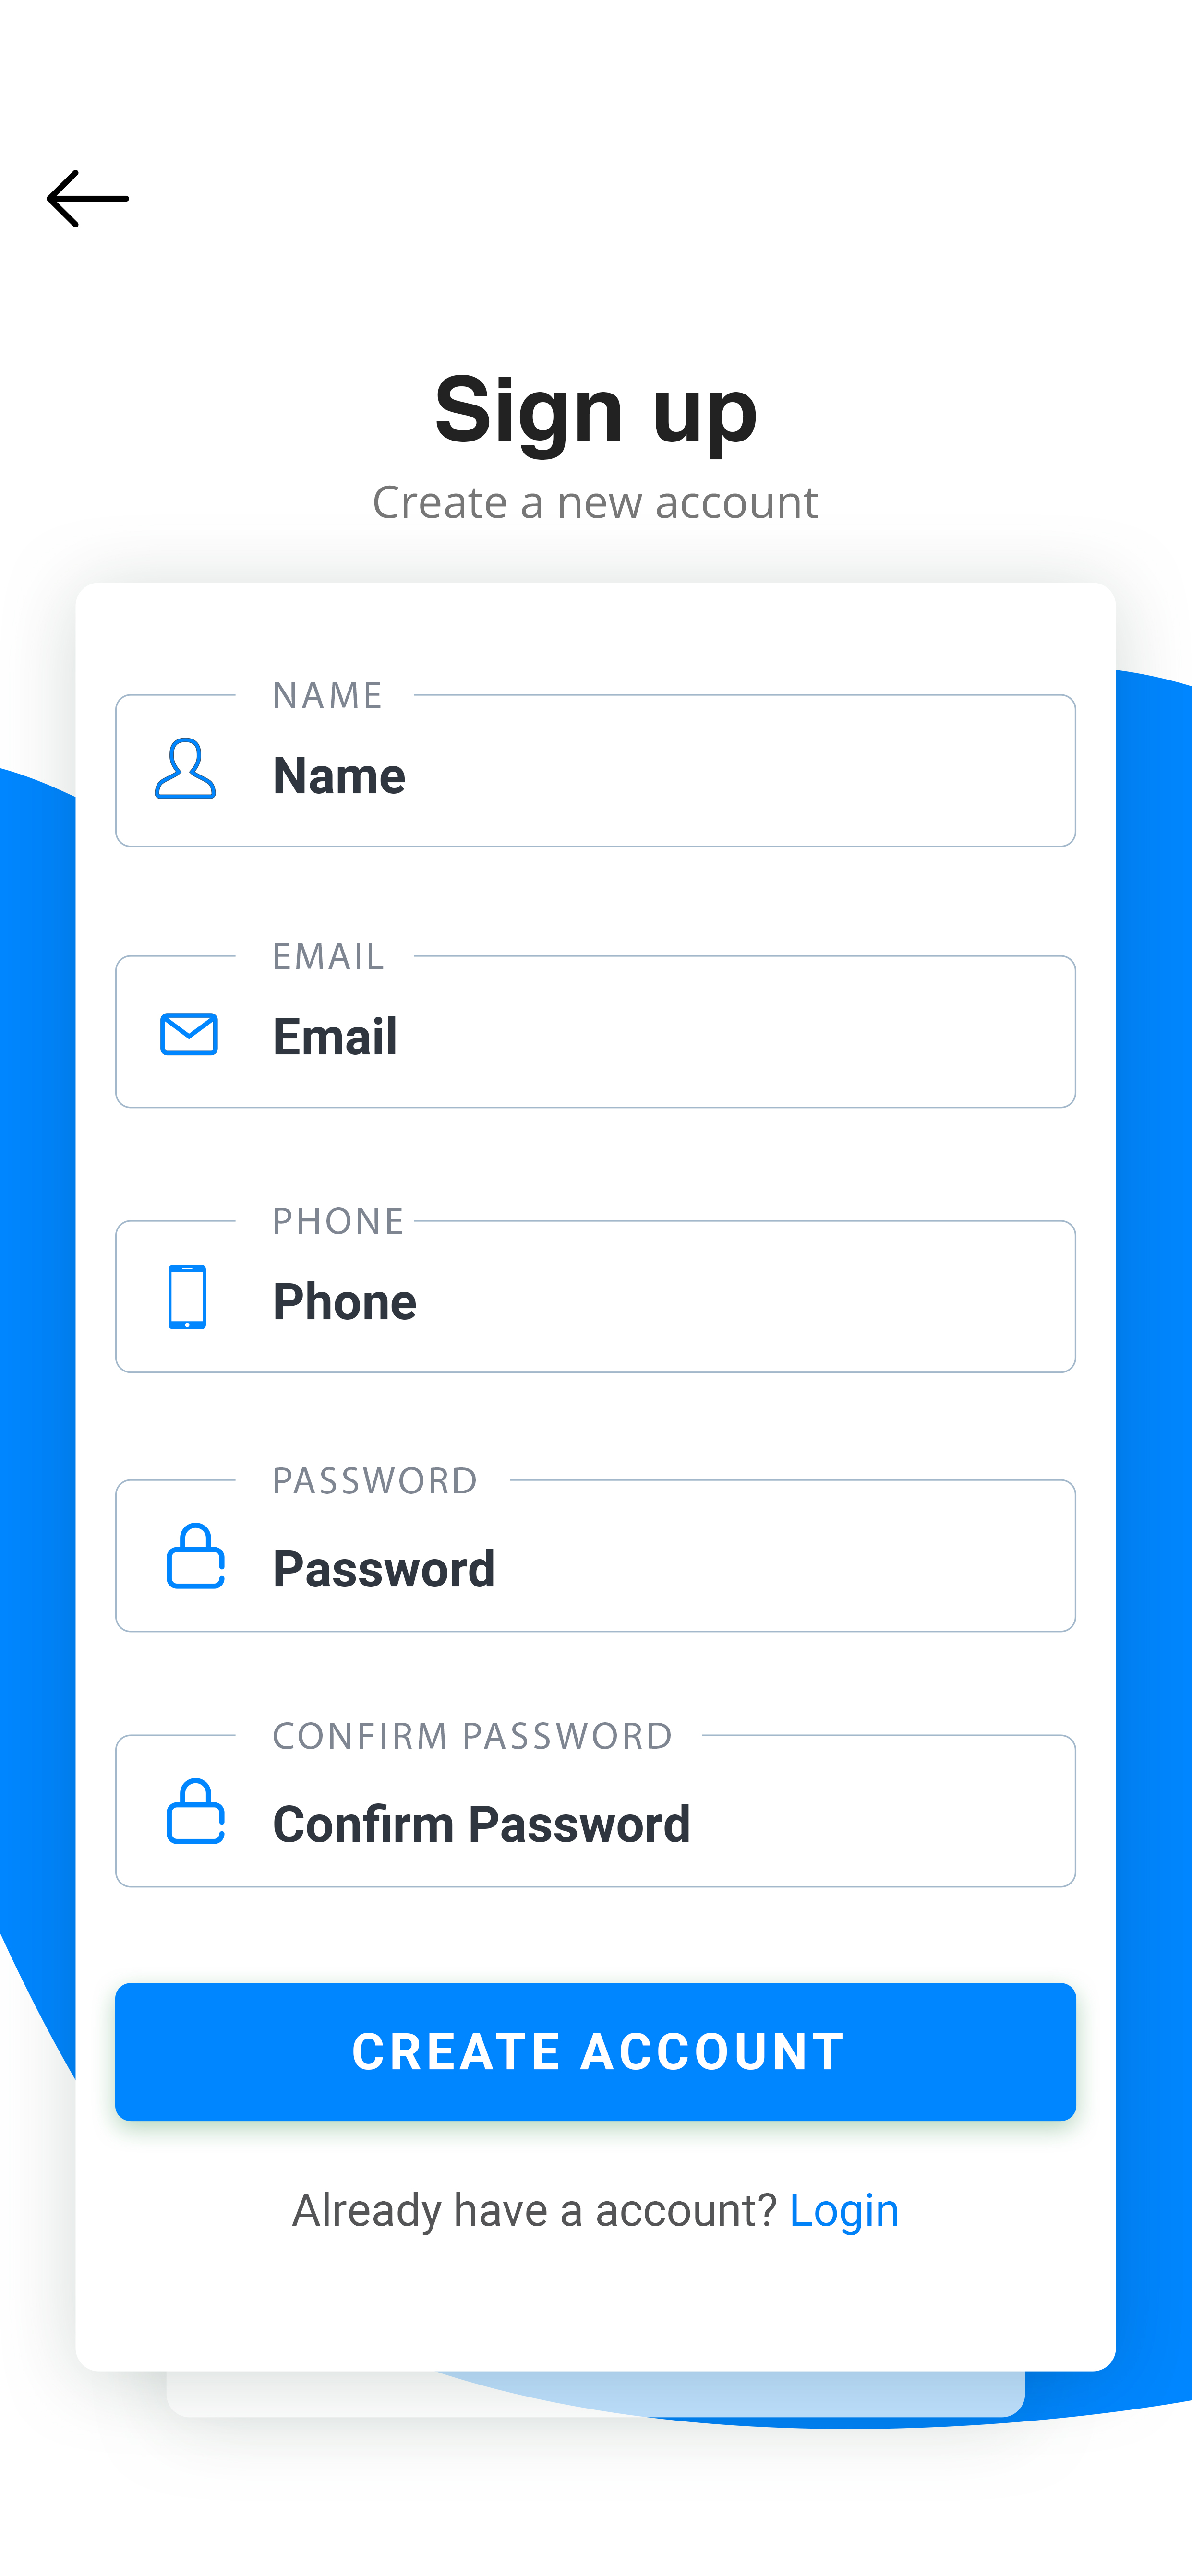EditText: (115, 1206, 1079, 1375), (115, 1720, 1077, 1889), (115, 941, 1079, 1109), (115, 1465, 1079, 1633), (115, 680, 1077, 848)
Icon: (46, 169, 130, 228), (166, 1778, 225, 1845), (155, 738, 217, 800), (166, 1523, 225, 1589), (161, 1014, 219, 1056)
Image: (168, 1265, 207, 1329)
Text: (436, 375, 756, 462), (293, 2190, 898, 2236), (275, 1804, 689, 1843), (373, 485, 819, 521), (273, 1722, 671, 1750), (275, 1549, 495, 1589), (275, 1467, 477, 1495), (275, 1281, 416, 1321), (275, 757, 406, 795), (275, 1017, 396, 1056), (275, 1207, 403, 1235), (275, 680, 381, 710), (275, 943, 385, 969)
TextButton: (115, 1983, 1077, 2121)
